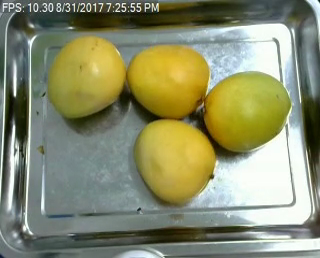Mango: (200, 67, 292, 155), (42, 36, 126, 120), (133, 119, 217, 201), (126, 42, 209, 118)
